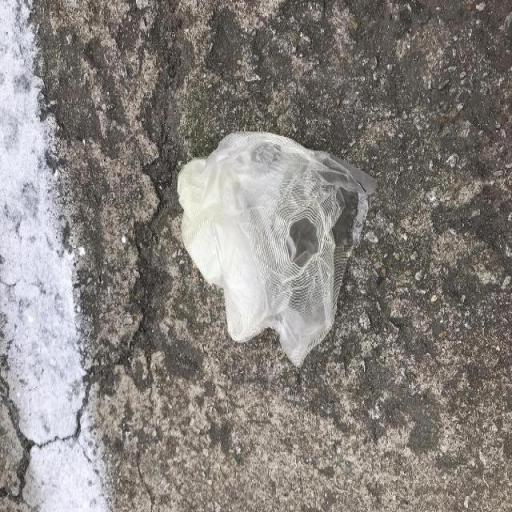plastic-bag: (174, 128, 382, 368)
